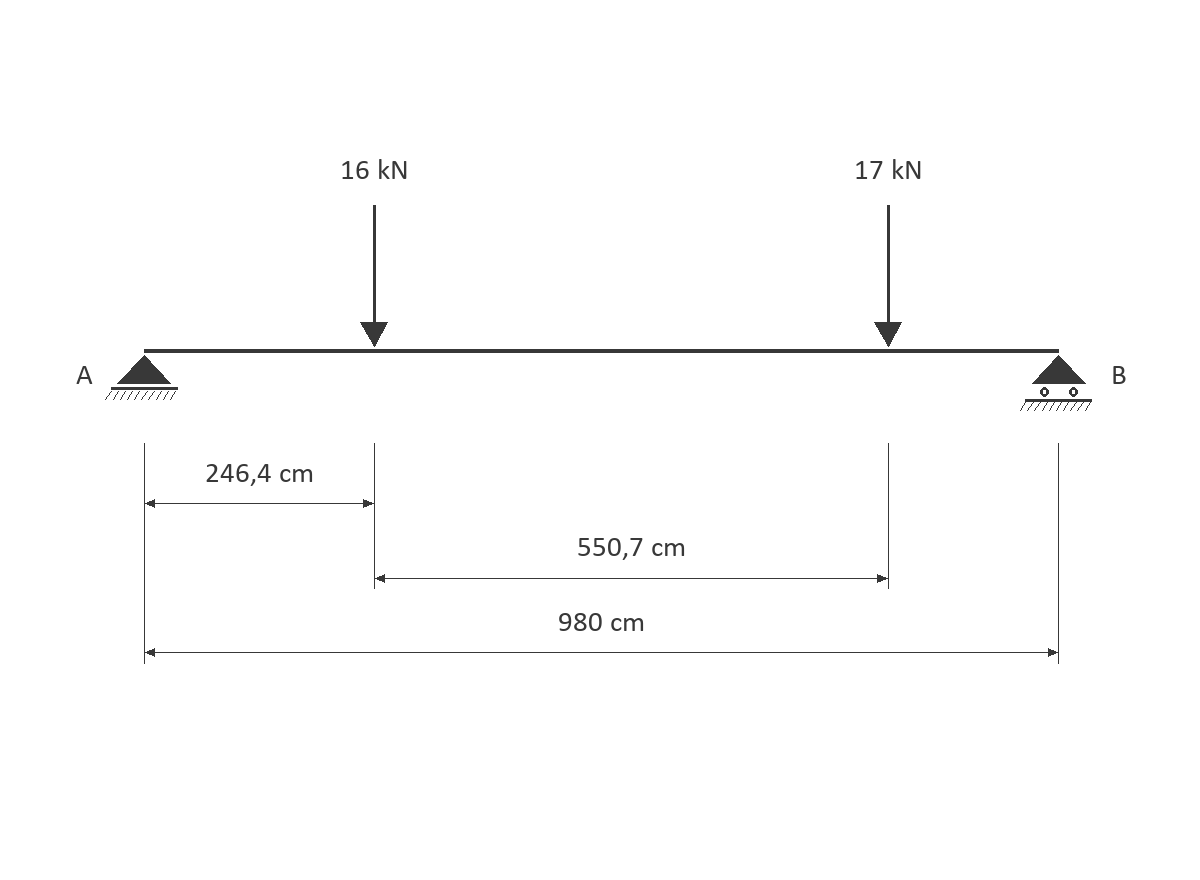pin_support: (105, 355, 178, 400)
point_load: (360, 205, 388, 347), (874, 205, 902, 347)
roller_support: (1020, 355, 1092, 411)
